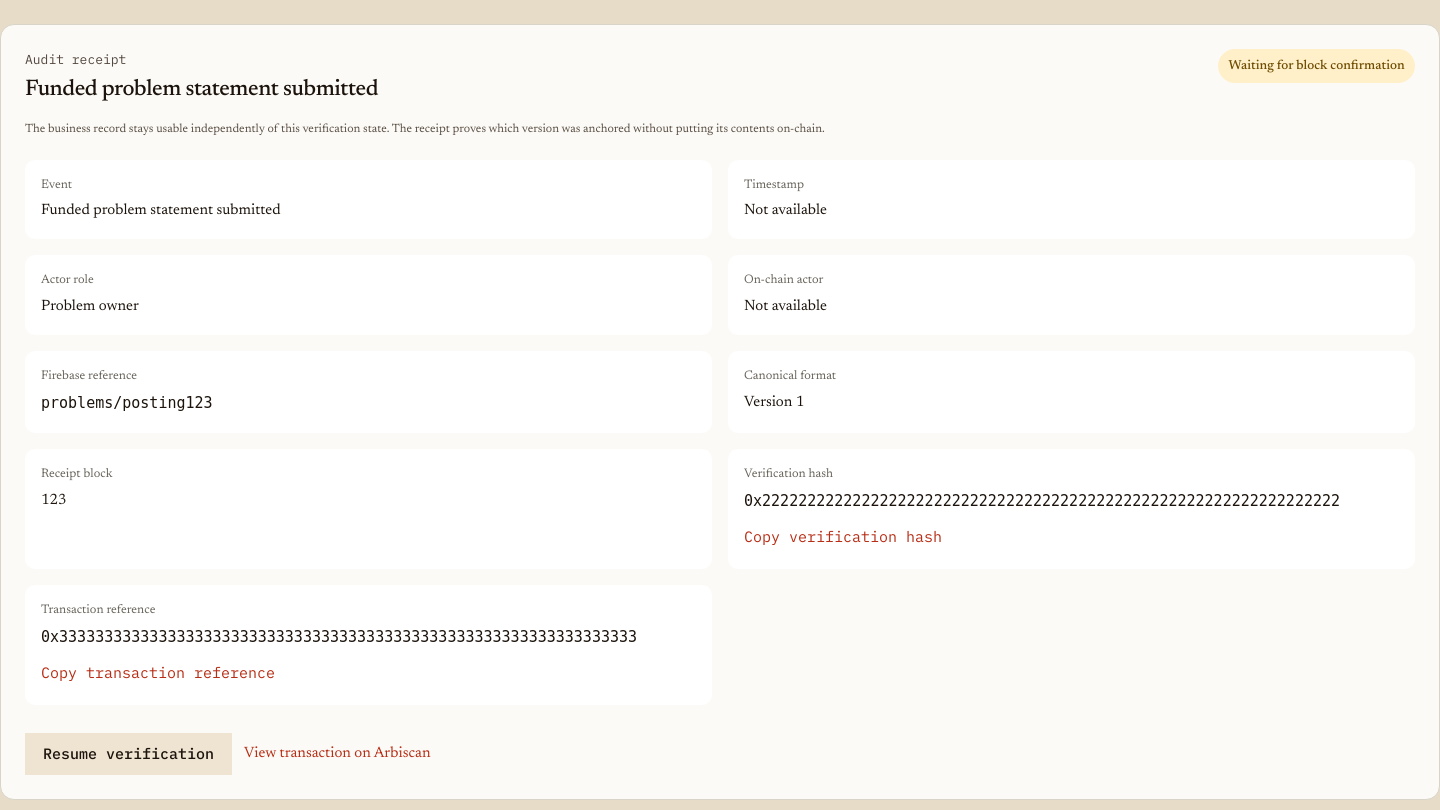
Scenario: explains a clipboard failure and allows resuming a known transaction at the attempt cap
This screenshot has width=1440, height=810.
Click the button "Copy transaction reference": {"x": 158, "y": 672} x1=41 y1=656 x2=275 y2=688
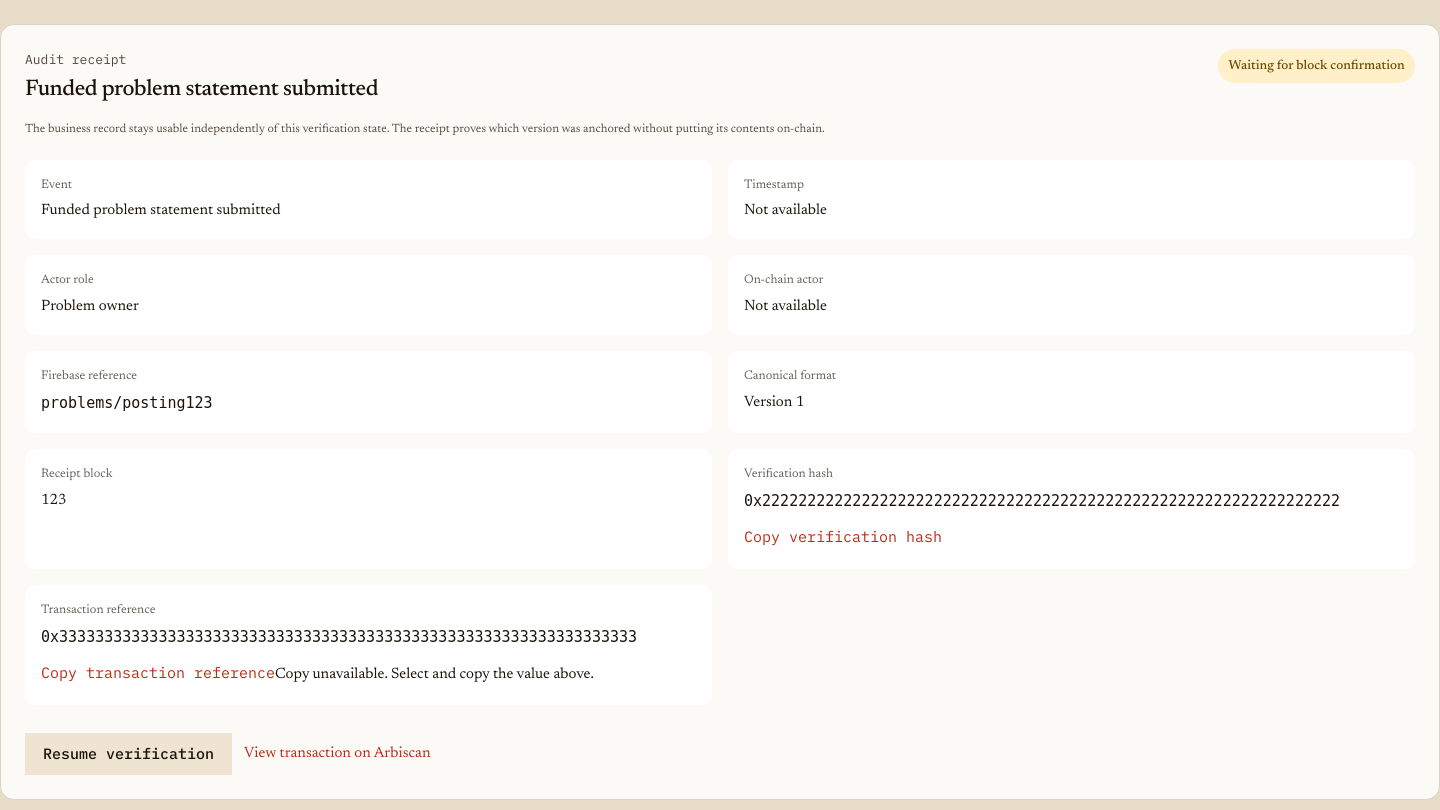
Expected: the button "Resume verification" is shown, x1=25 y1=732 x2=232 y2=774
Now the text "Copy unavailable. Select and copy the value above." is shown, box x1=275 y1=666 x2=594 y2=682
